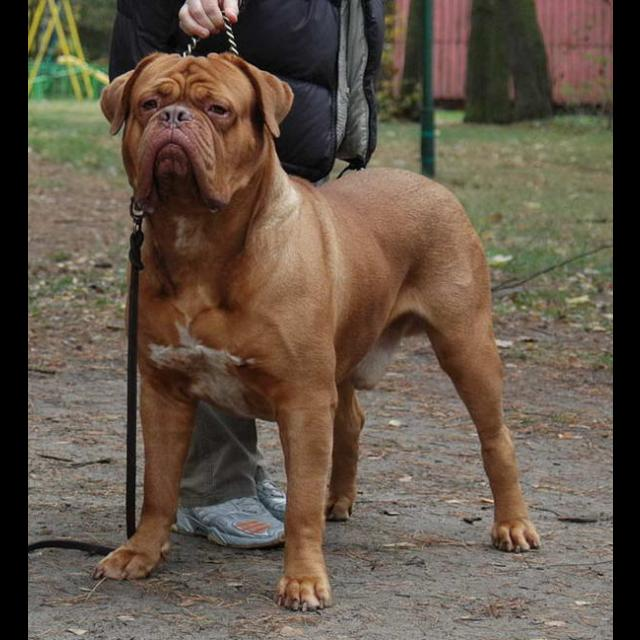dogue_de_bordeaux: (93, 54, 543, 614)
person: (104, 1, 384, 539)
